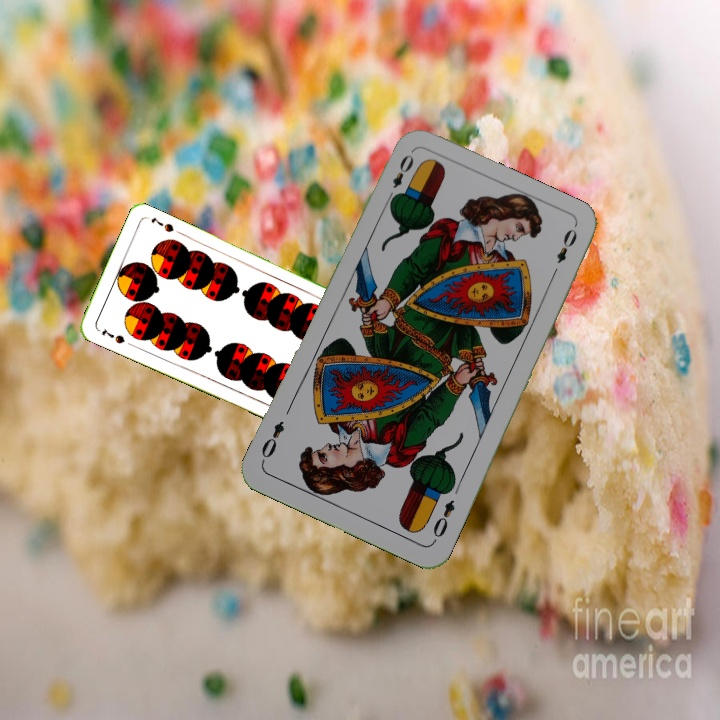EO: (383, 150, 417, 205), (429, 495, 458, 545)
S7: (98, 325, 128, 346)
